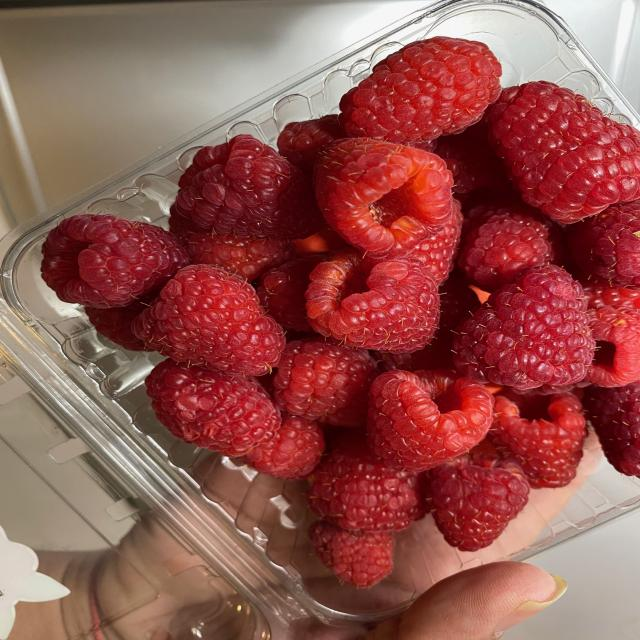raspberries: (105, 62, 607, 561)
